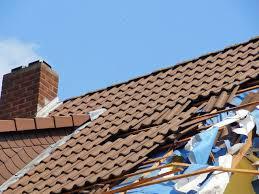sagging_roof: (88, 78, 259, 194)
